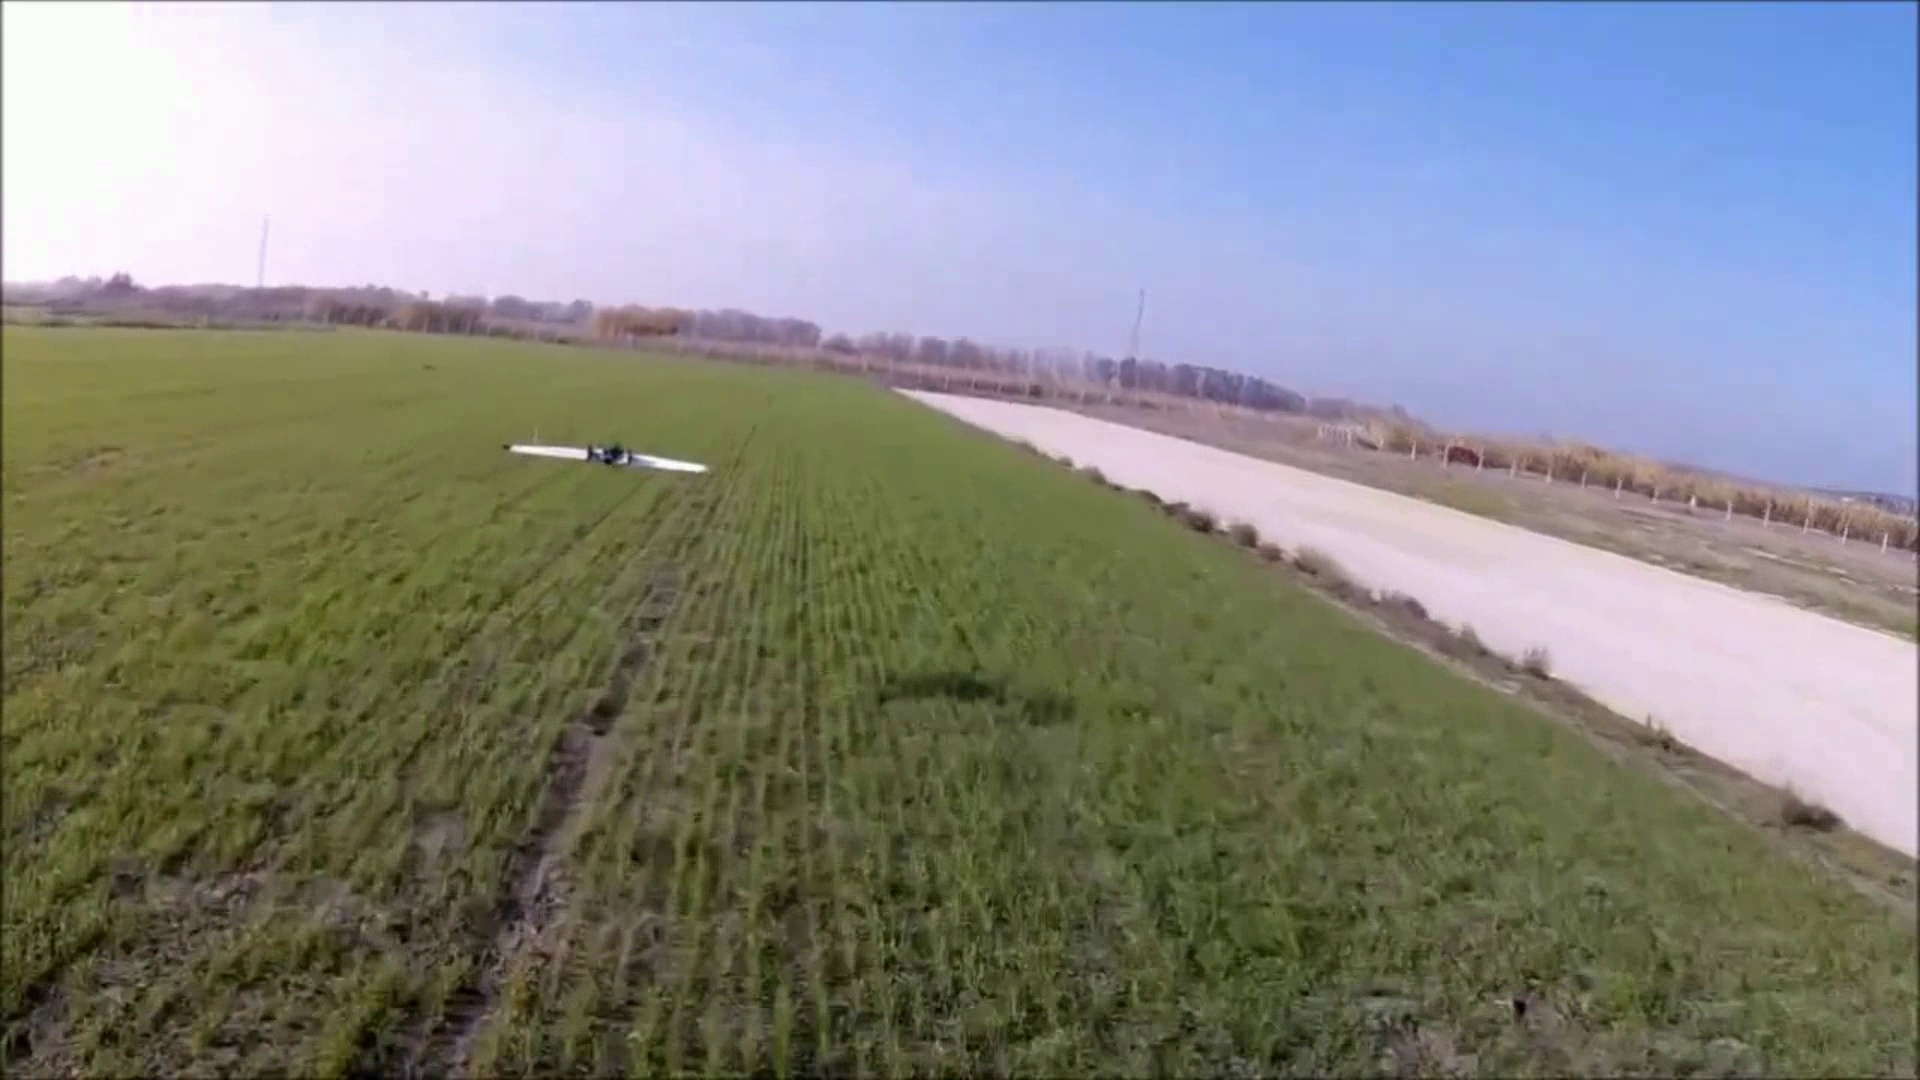airplane: (504, 435, 709, 477)
